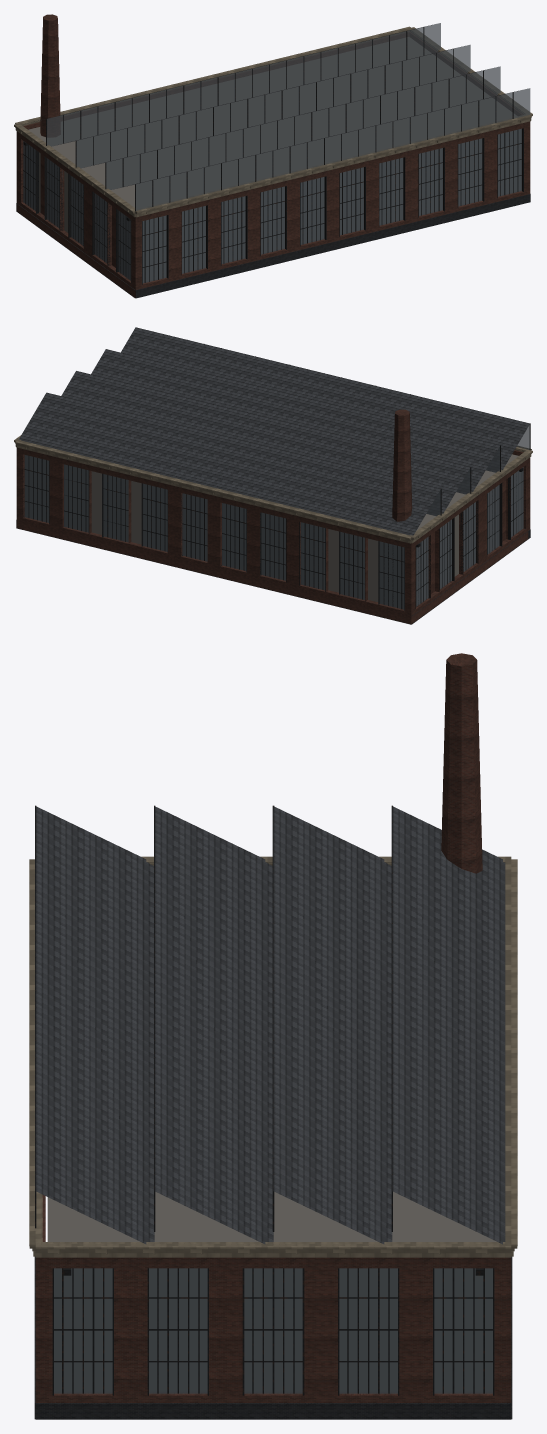
Rendered from B_engine_shop.glb.
3 renders of one model, top to bottom at view 1: azimuth 30°, elevation 25°; view 2: azimuth 150°, elevation 25°; view 3: azimuth 270°, elevation 25°, orthographic. The views are drawn at different scales.
Parts seen in each view (by area): view 1: B_engine_shop; view 2: B_engine_shop; view 3: B_engine_shop.
Boxes of the visible parts, x1,y1,x2,y2 form: B_engine_shop: (14, 14, 532, 298); B_engine_shop: (14, 327, 532, 624); B_engine_shop: (29, 653, 517, 1419).
Bounding box in the file's own units: 46.64 × 22 × 24.64.
Materials: 7 (5 with a texture image).
